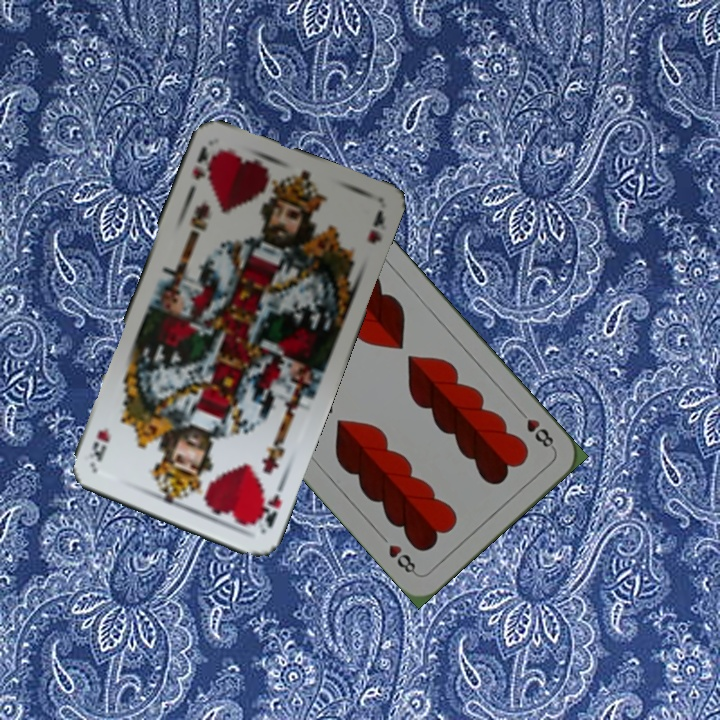H8: (513, 404, 558, 453)
HK: (250, 478, 288, 535), (189, 142, 217, 183)
